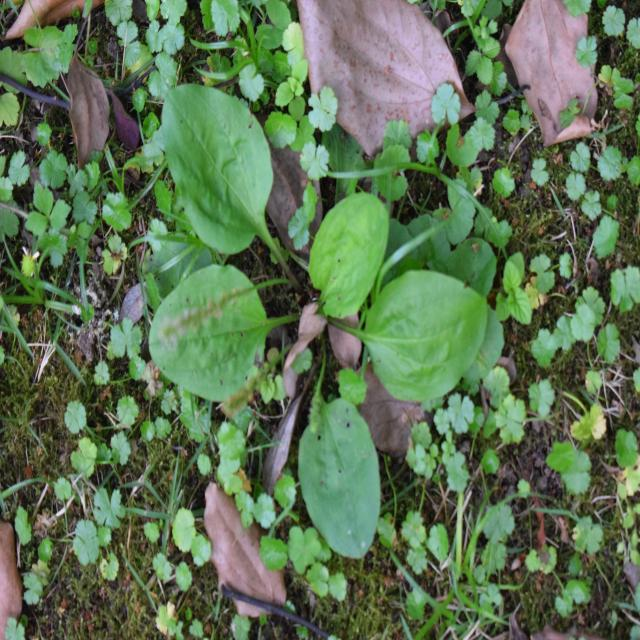plantain: (154, 83, 464, 540)
